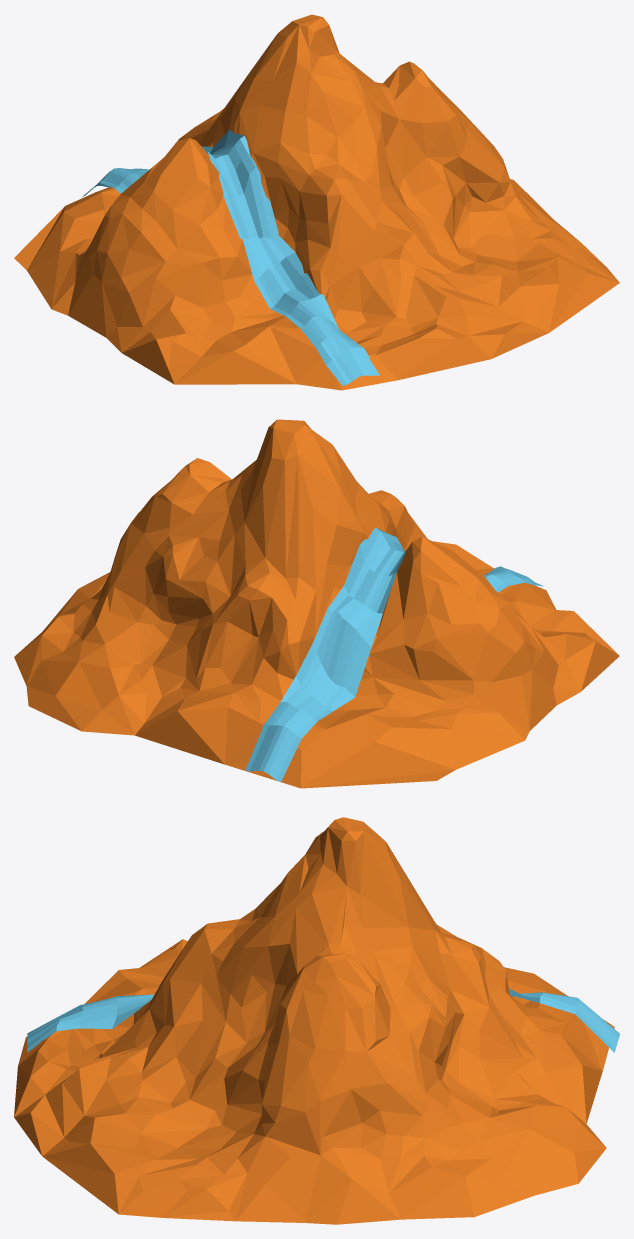
Rendered from rio.fbx.
3 renders of one model, top to bottom at view 1: azimuth 30°, elevation 25°; view 2: azimuth 150°, elevation 25°; view 3: azimuth 270°, elevation 25°, orthographic. The views are drawn at different scales.
Parts seen in each view (by area): view 1: SM_Env_Hill_04, Plano; view 2: SM_Env_Hill_04, Plano; view 3: SM_Env_Hill_04, Plano.
Part boxes in pixels (x1,y1,x2,y2): SM_Env_Hill_04: [14, 14, 619, 390]; Plano: [82, 130, 379, 385]; SM_Env_Hill_04: [14, 419, 619, 788]; Plano: [245, 527, 543, 782]; SM_Env_Hill_04: [14, 817, 614, 1224]; Plano: [27, 988, 619, 1052].
Bounding box in the file's own units: 25.64 × 12.48 × 25.02.
